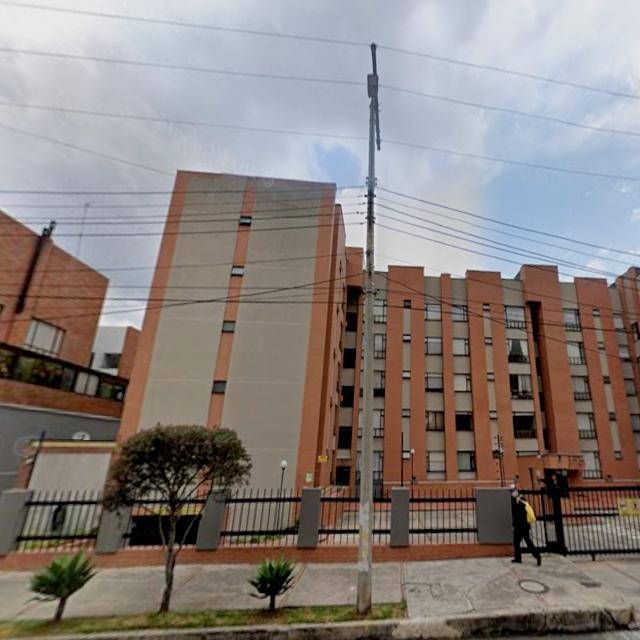fachada: (118, 172, 361, 487), (0, 213, 137, 489)
poste: (356, 43, 378, 615), (74, 203, 89, 257), (400, 427, 403, 487)
